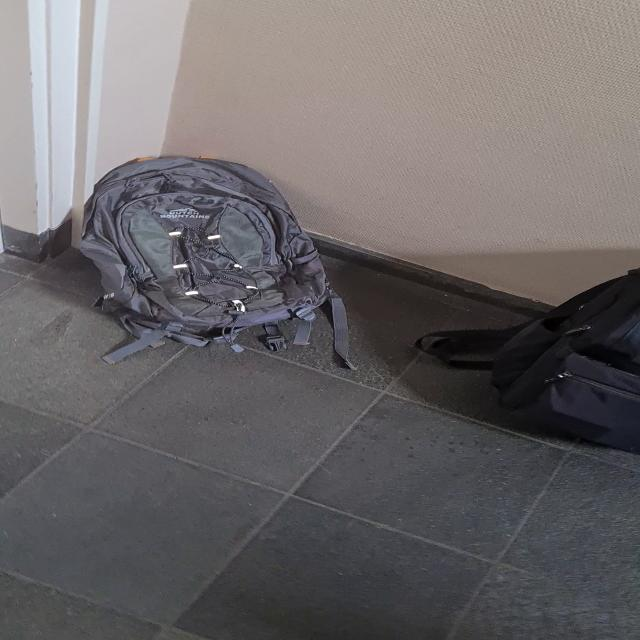backpack: (72, 150, 347, 345)
